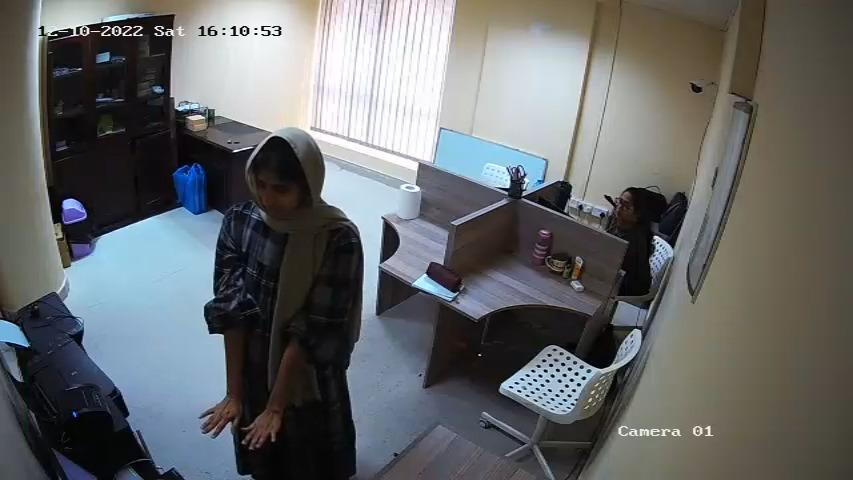no_gloves: (196, 394, 242, 442), (243, 408, 283, 452)
